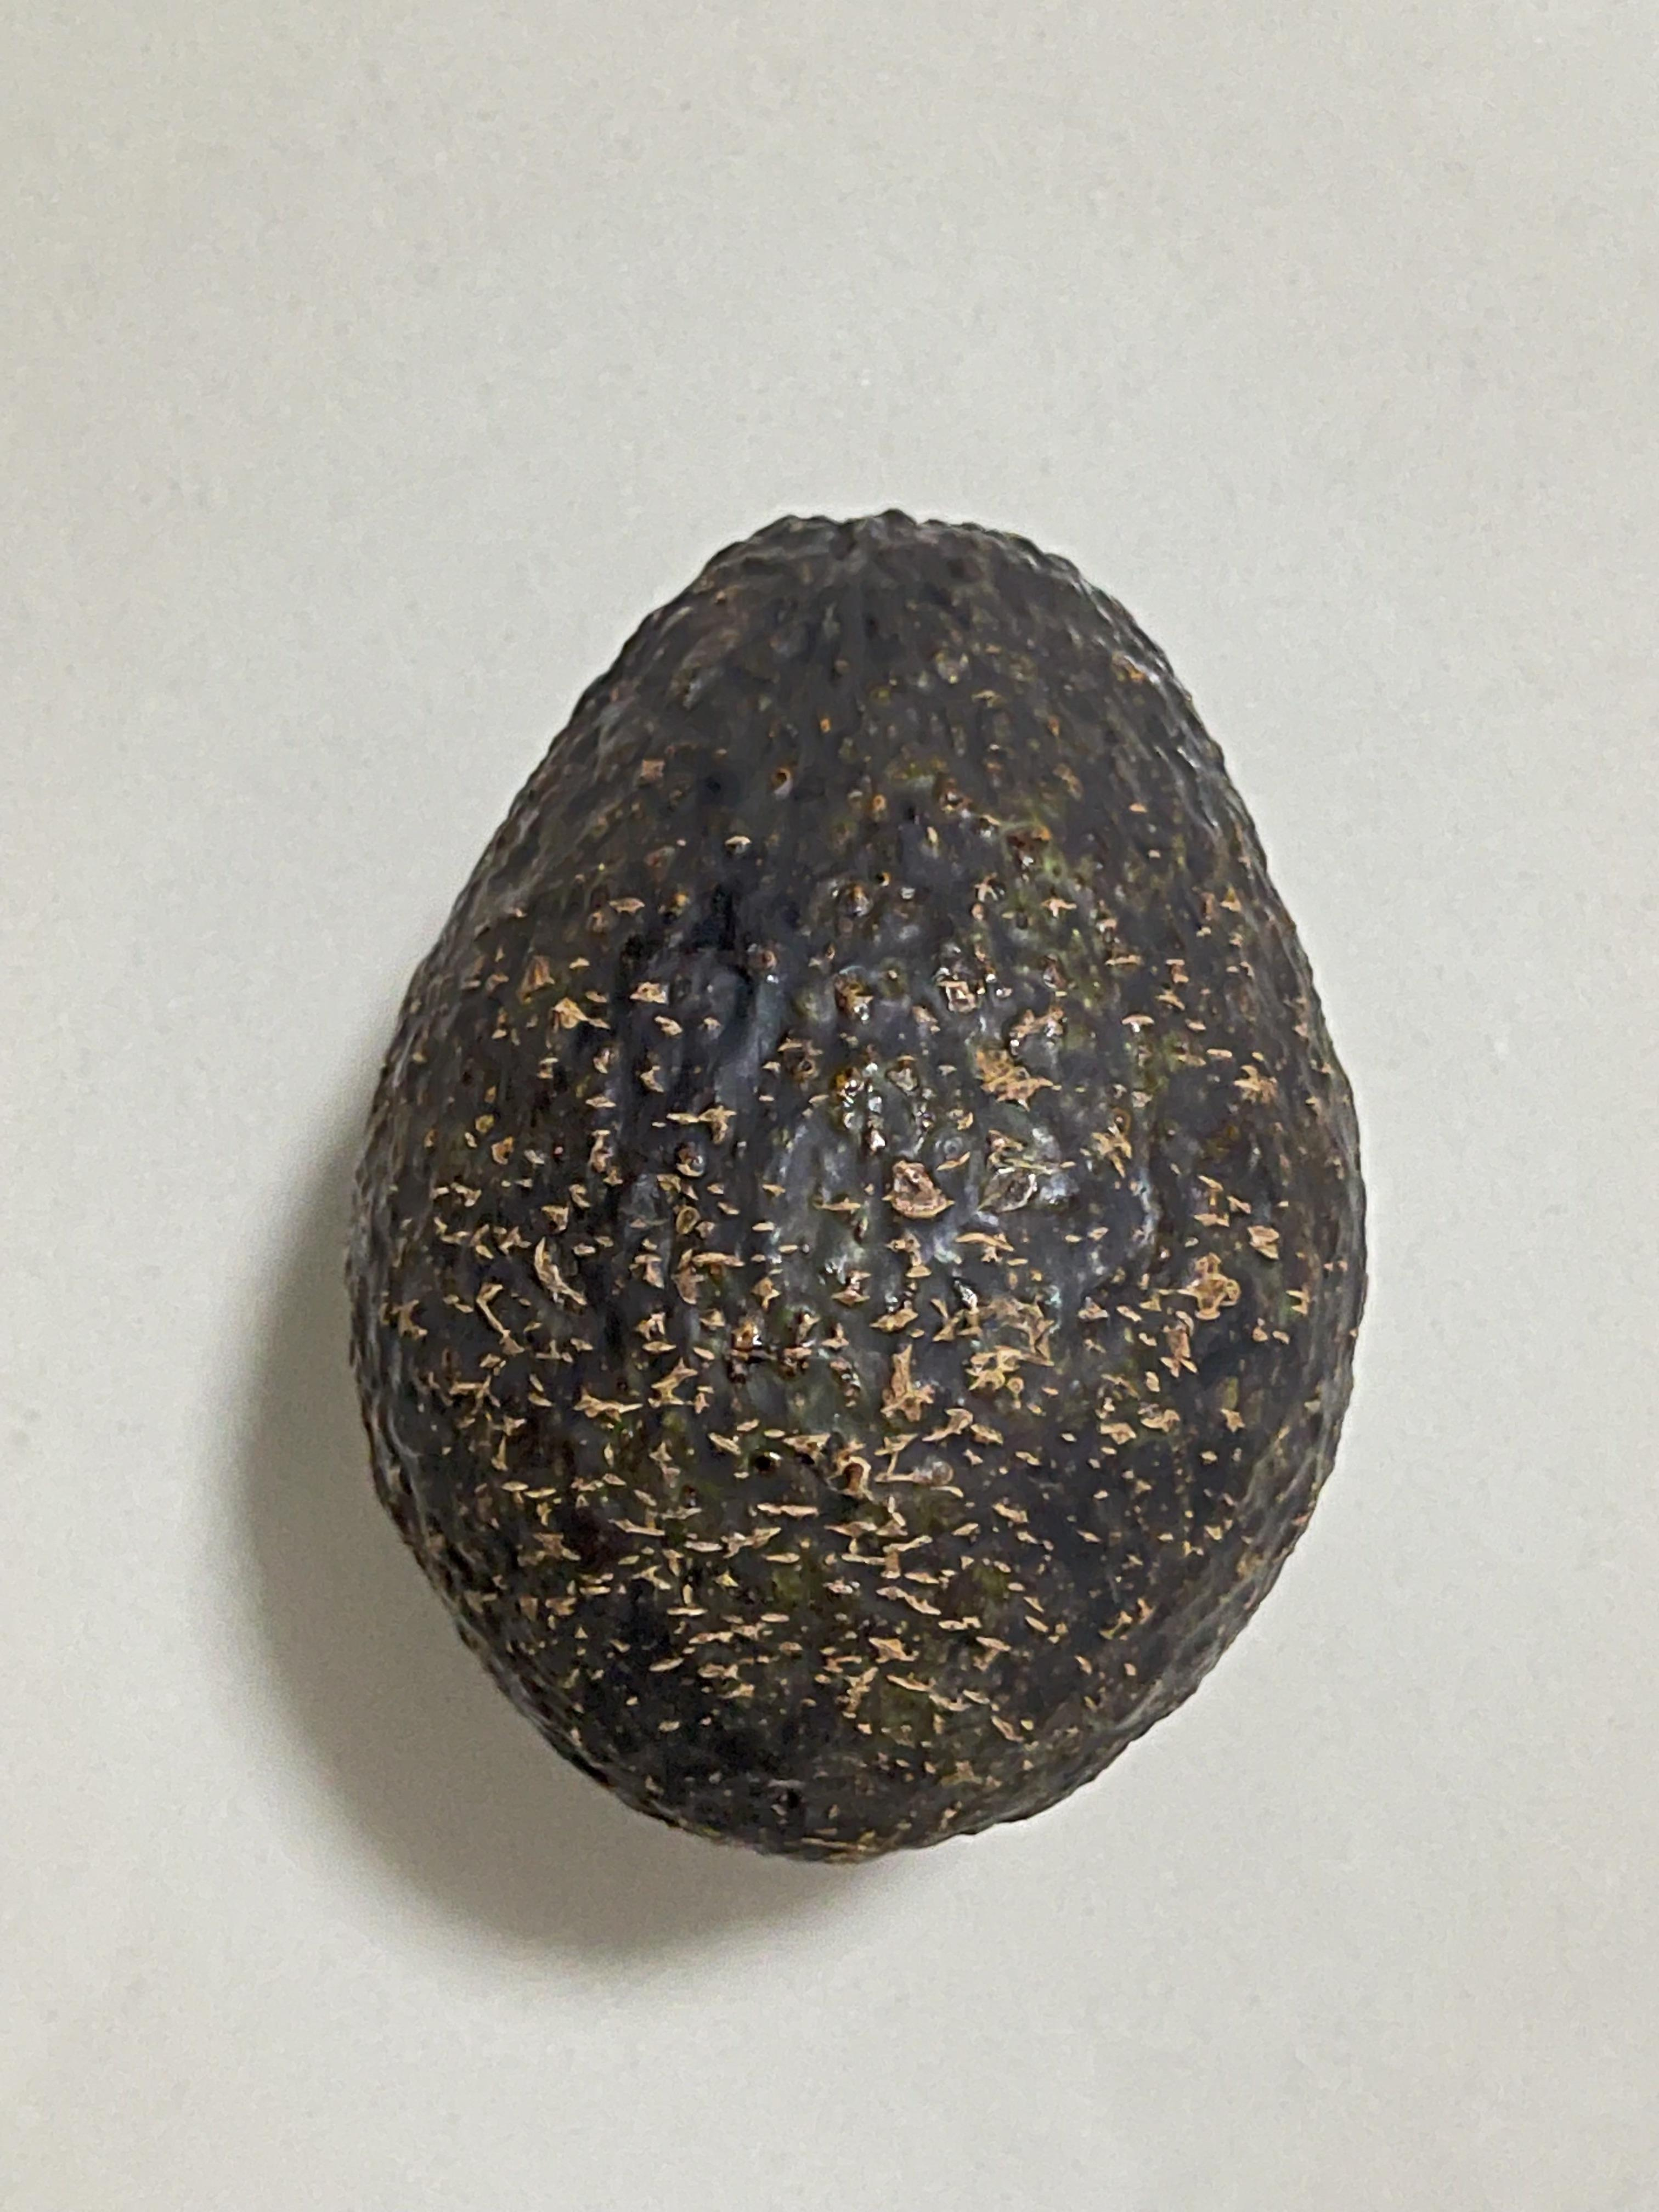Level2: (335, 488, 1378, 1874)
